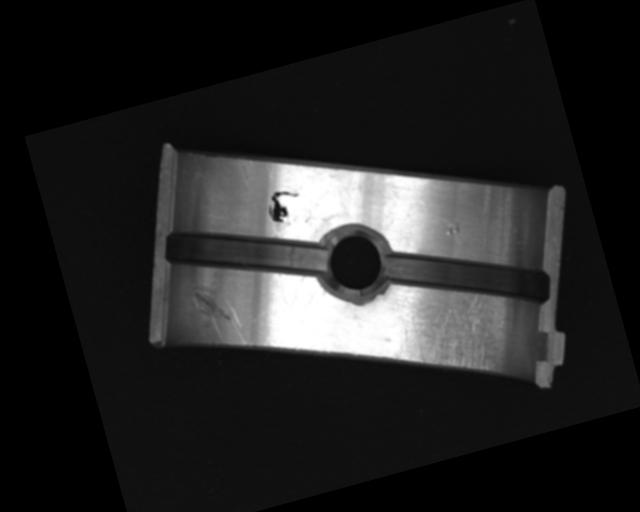blot: (262, 185, 306, 229)
bruise: (441, 216, 464, 237)
gap: (374, 214, 555, 343), (158, 193, 328, 310)
hole: (312, 219, 399, 303)
nick: (187, 272, 251, 356)
scratch: (383, 280, 529, 392)
